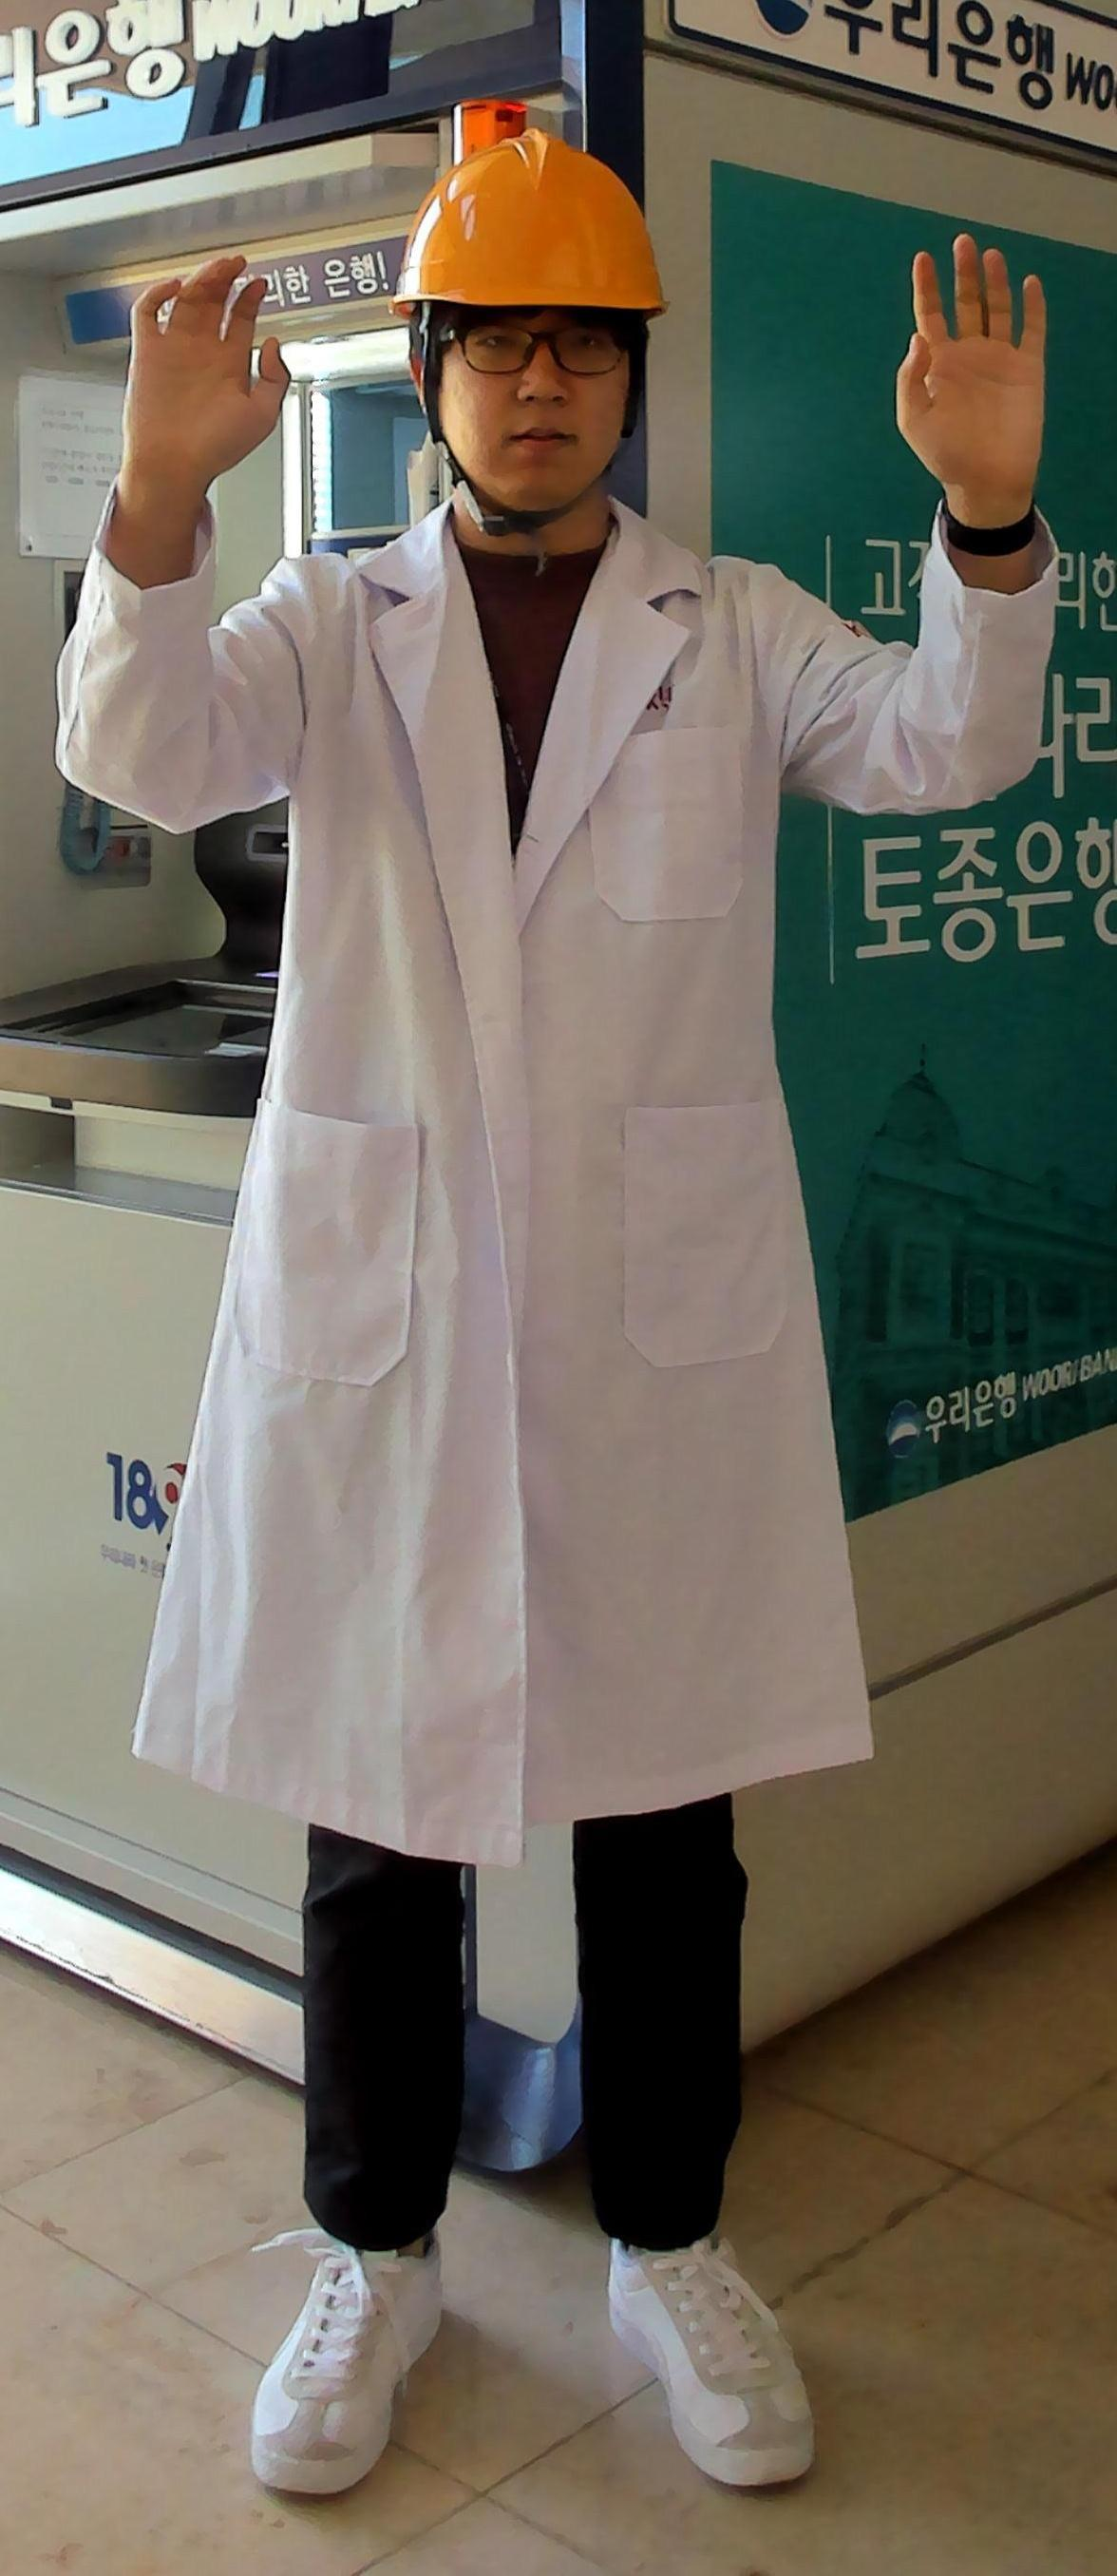lab_coat: (171, 549, 876, 1794)
